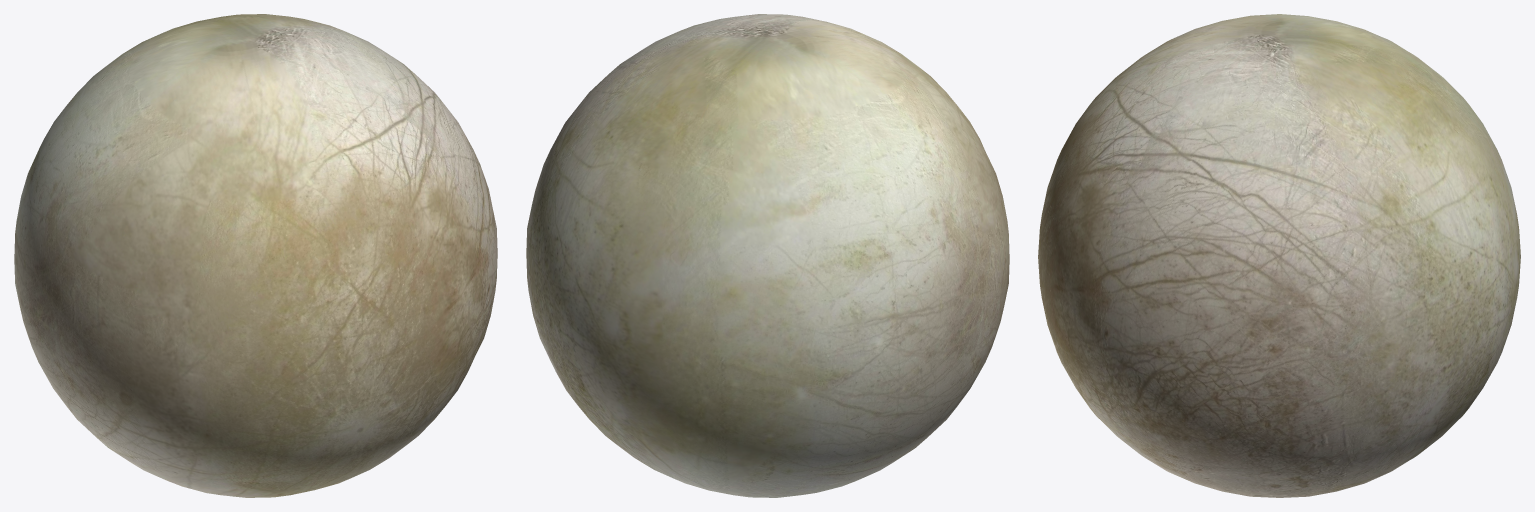
Rendered from europa moon.fbx.
3 renders of one model, left to right at view 1: azimuth 30°, elevation 25°; view 2: azimuth 150°, elevation 25°; view 3: azimuth 270°, elevation 25°, orthographic.
Parts seen in each view (by area): view 1: tripo_node_8cec66da; view 2: tripo_node_8cec66da; view 3: tripo_node_8cec66da.
Boxes of the visible parts, x1,y1,x2,y2 form: tripo_node_8cec66da: [14, 14, 497, 497]; tripo_node_8cec66da: [526, 14, 1009, 497]; tripo_node_8cec66da: [1038, 14, 1520, 497].
Size of the model in its own units: 0.998 by 0.998 by 0.998.
